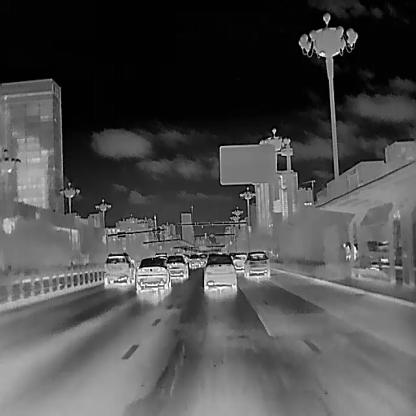car: (134, 256, 170, 296), (201, 252, 237, 290), (102, 252, 136, 287), (242, 251, 270, 278), (165, 255, 189, 283), (232, 252, 248, 272), (186, 253, 200, 268), (198, 253, 208, 267)
